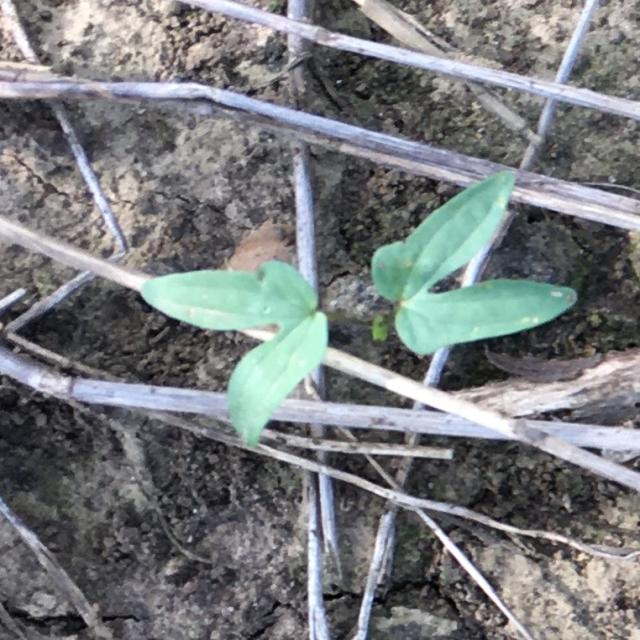MorningGlory: (140, 170, 578, 448)
